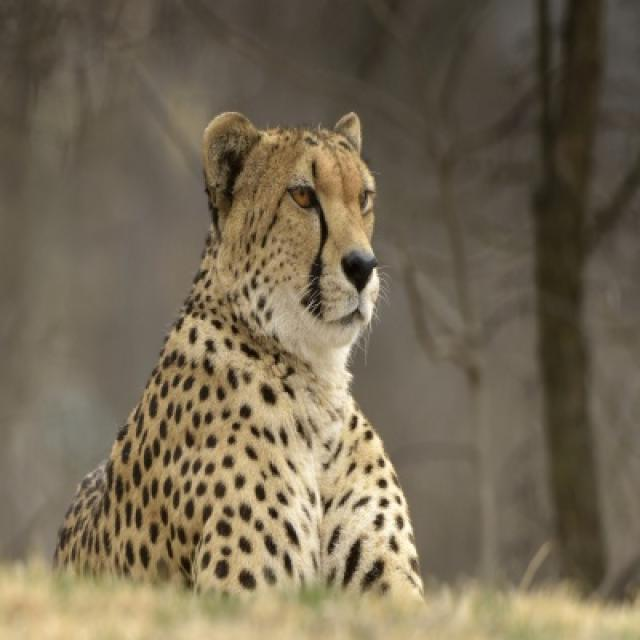Cheetah: (53, 112, 422, 600)
